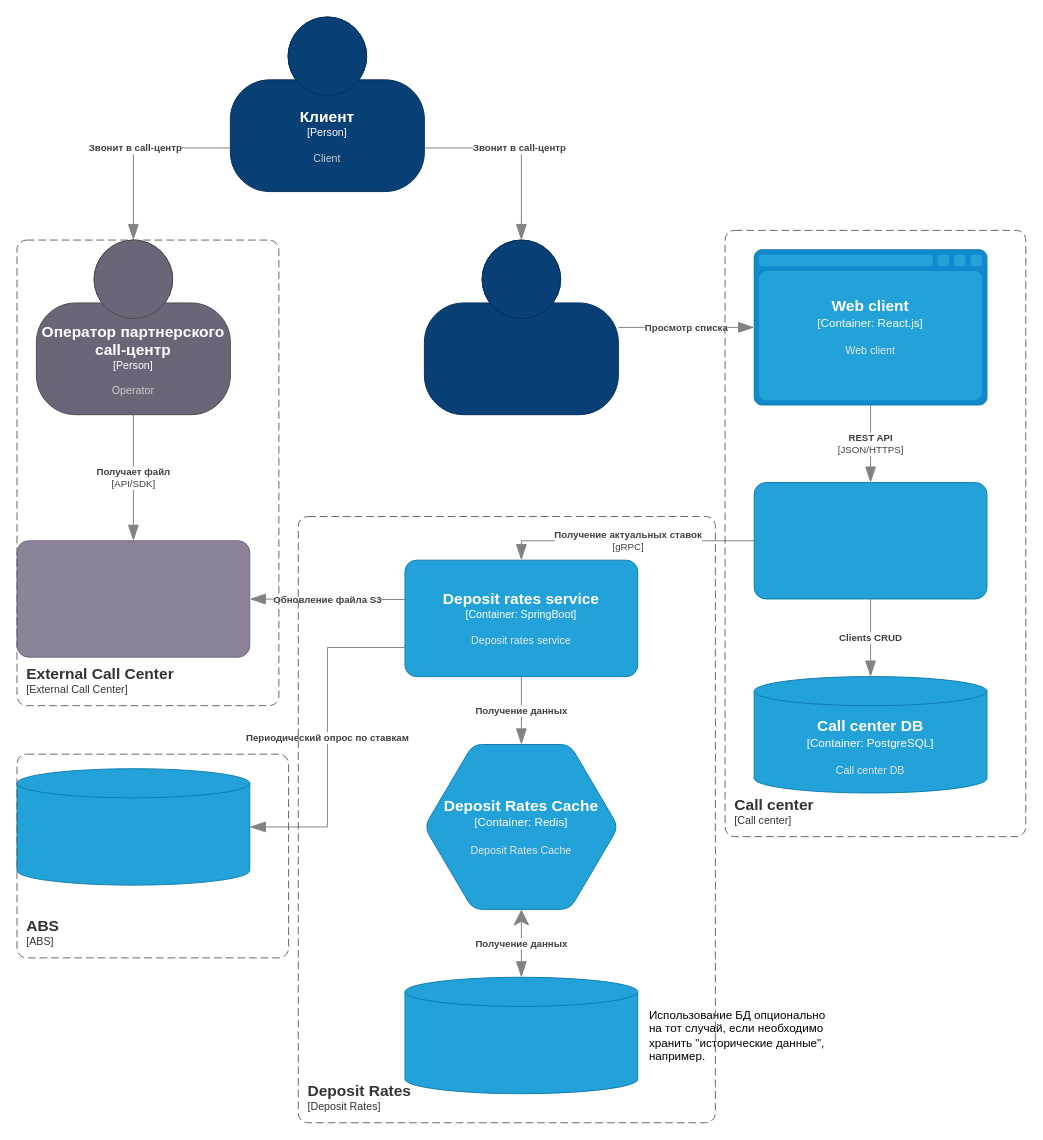
The diagram is 1043 pixels wide and 1140 high, and some of its shapes have lost their labels. The centre of each missing label's shape, as x and y in pixels:
"ABS DB [Container: Oracle Database 12] ABS DB" goes at pixel 133 826.
"Call center backend [Container: Java Spring Bootetc.] Call center backend" goes at pixel 870 540.
"Depostit Rates DB [Container: PostgreSQL] Depostit Rates DB" goes at pixel 521 1035.
"Оператор call-центр [Person] Operator" goes at pixel 520 327.
"Хранилище файла со ставками [S3] S3 storage" goes at pixel 133 598.
